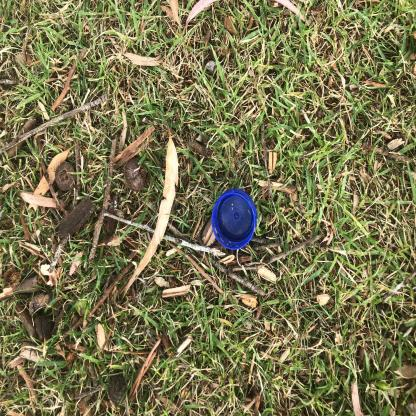trash: (119, 278, 177, 349)
